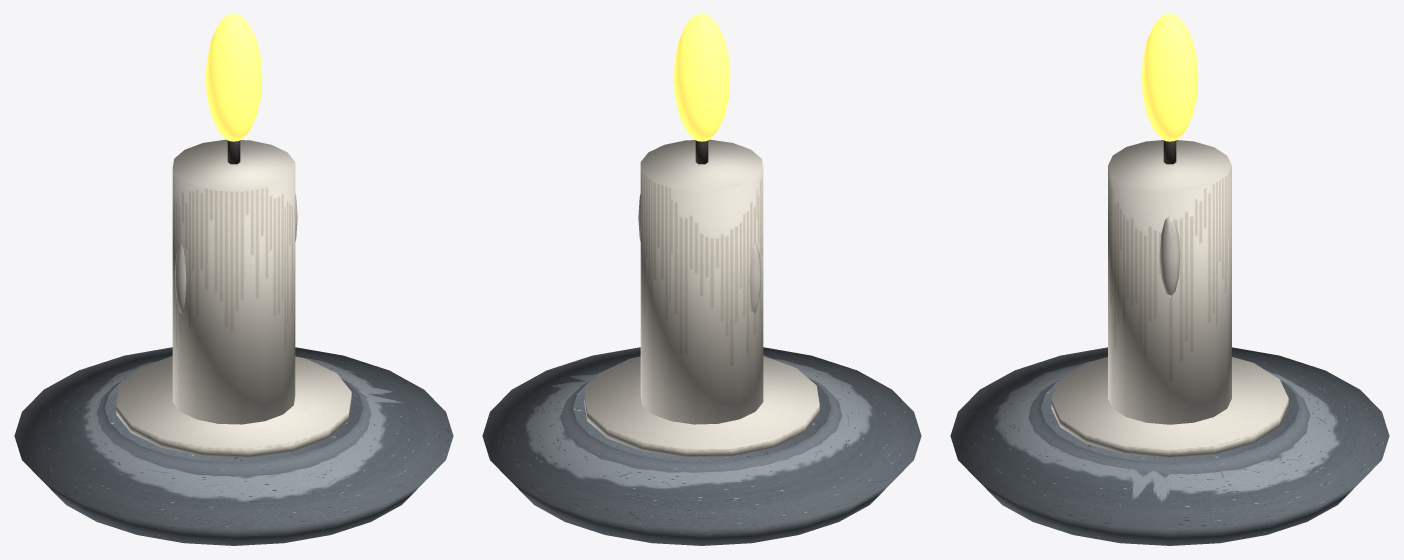
The model's file is nen.glb.
The picture shows the model from 3 angles, left to right: view 1: azimuth 30°, elevation 25°; view 2: azimuth 150°, elevation 25°; view 3: azimuth 270°, elevation 25°; orthographic projection.
Parts seen in each view (by area): view 1: dia; view 2: dia; view 3: dia.
Part boxes in pixels (<box>): dia: <box>14,14,453,545</box>; dia: <box>482,14,921,545</box>; dia: <box>950,14,1389,545</box>.
Size of the model in its own units: 0.119 by 0.1344 by 0.119.
5 materials, 2 textured.
